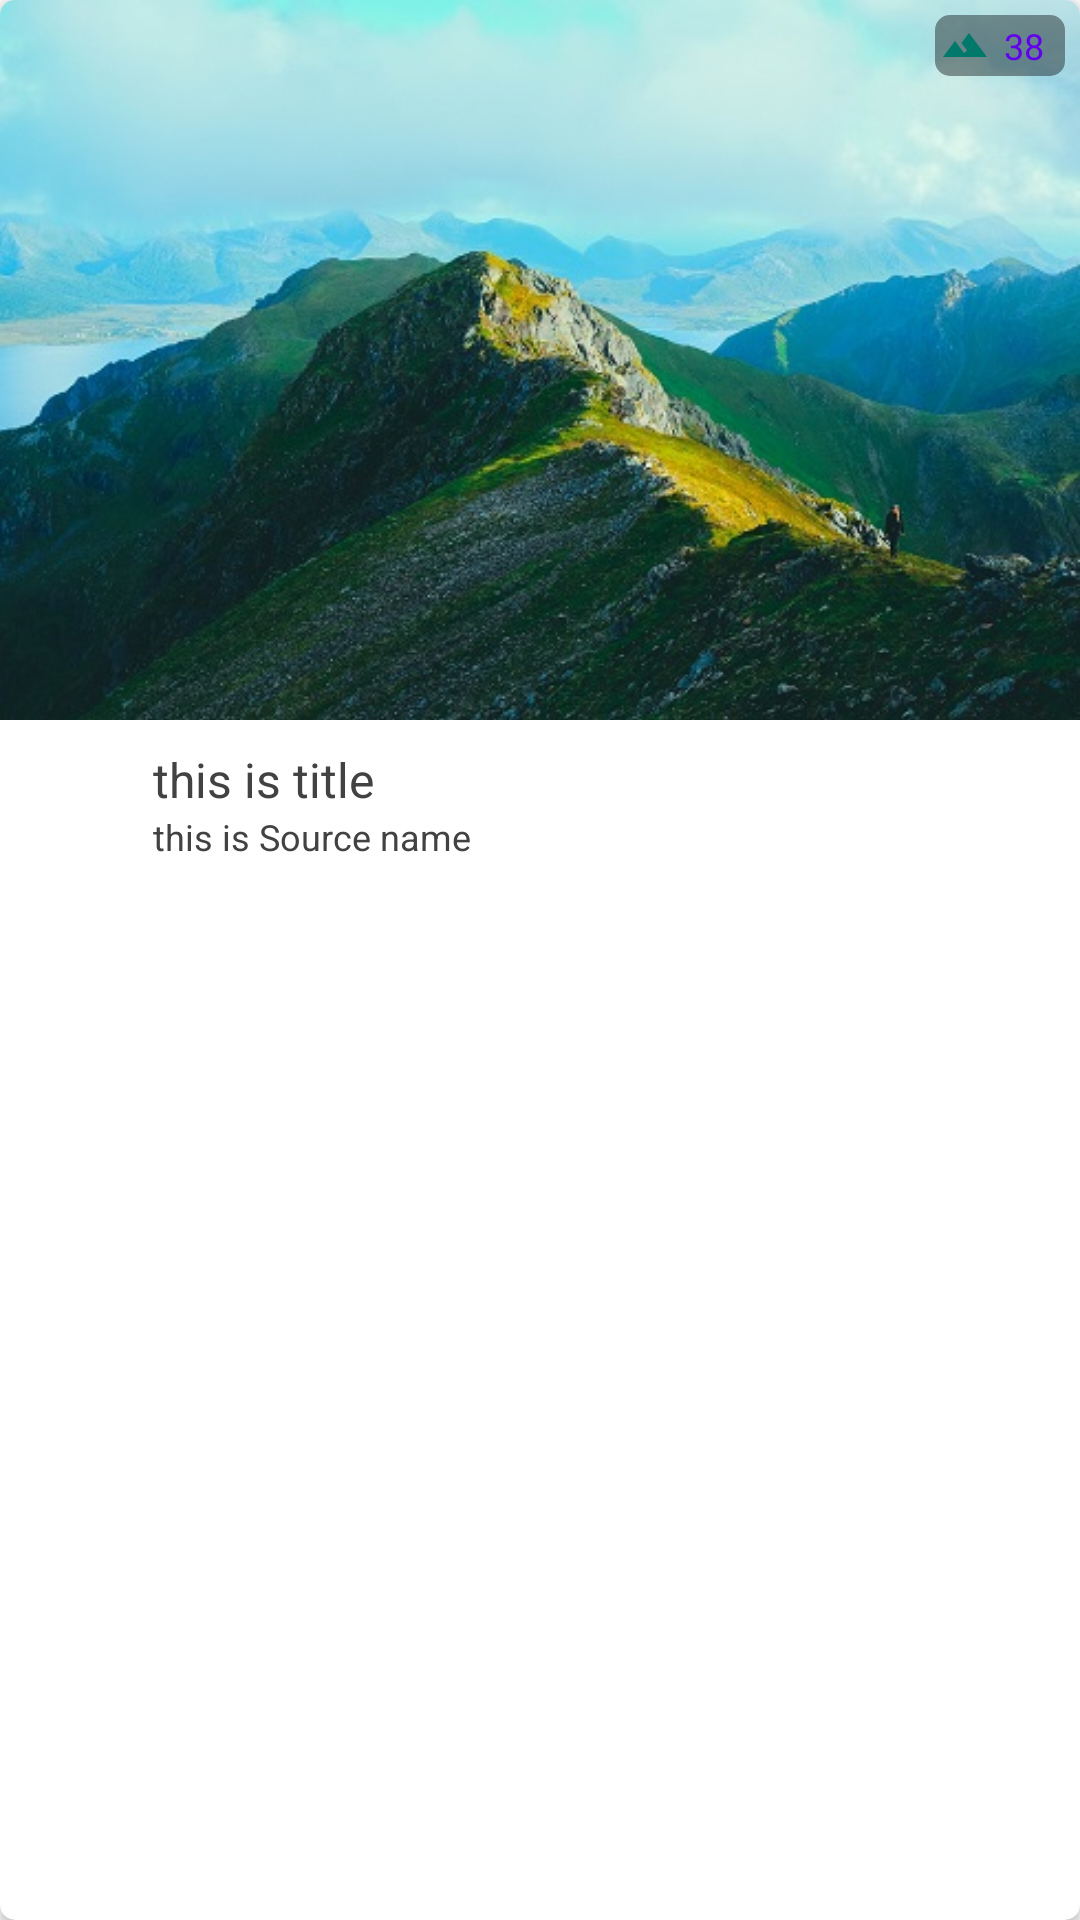

Icon bounding boxes for this 1080*1920 phone screenshot, format (x1, y1, x2, y2):
landscape: (943, 33, 987, 57)
